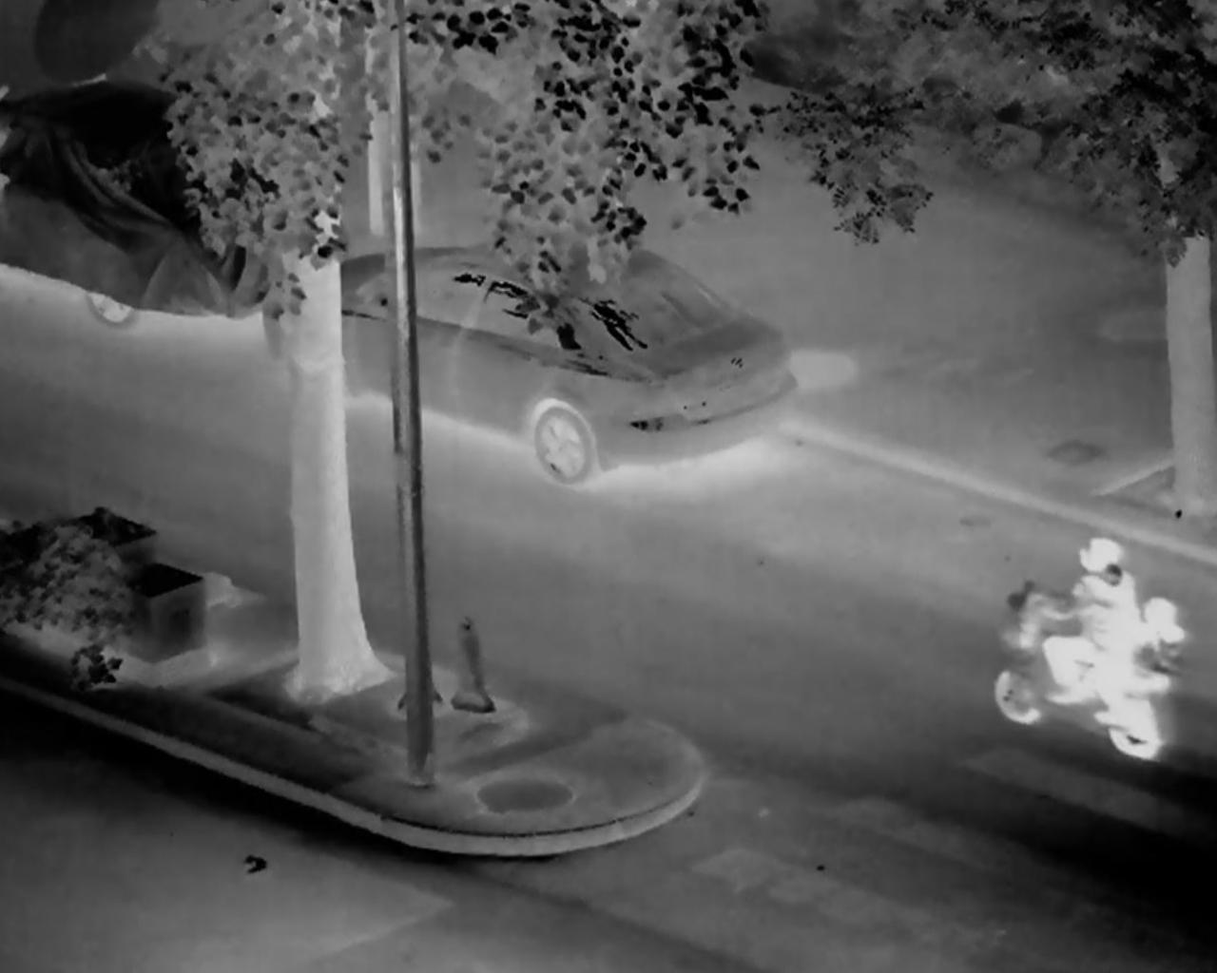person: (1043, 535, 1137, 761), (1137, 588, 1191, 754)
